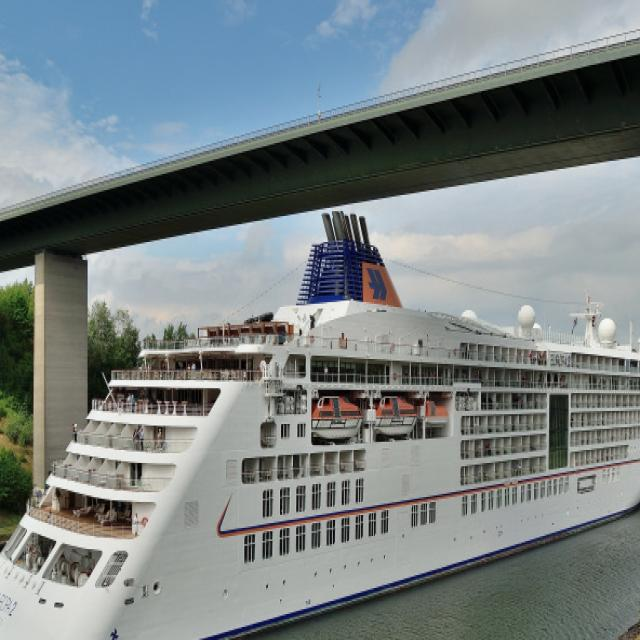cruises: (1, 207, 640, 640)
